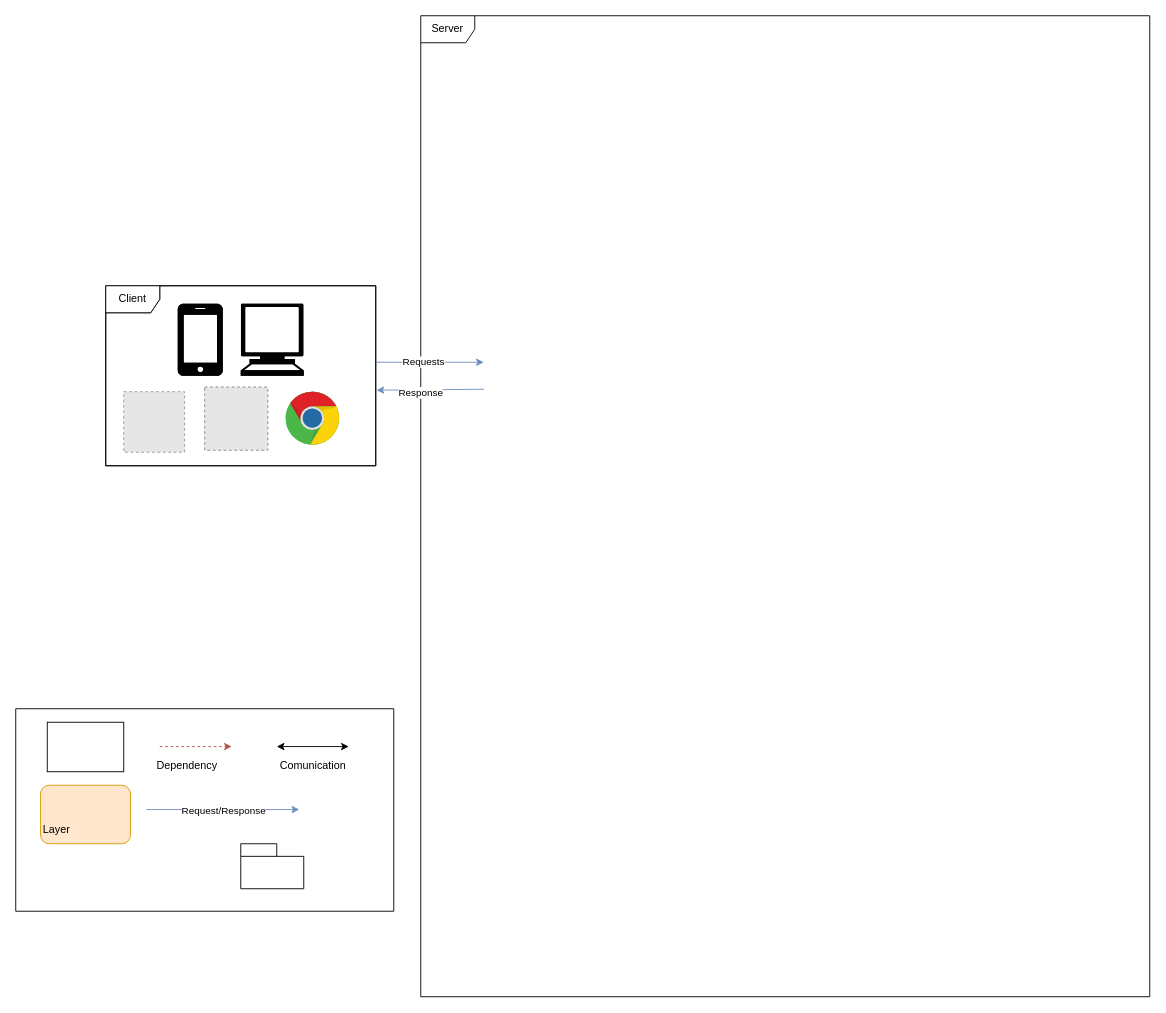
Image size: 1166x1013. Some labels were removed from this diagram. Grey dashed boxes stand in for pictures. Each missing label, with the centre of its shape:
"Class/File" belongs at (x=85, y=746).
"package" belongs at (x=272, y=866).
